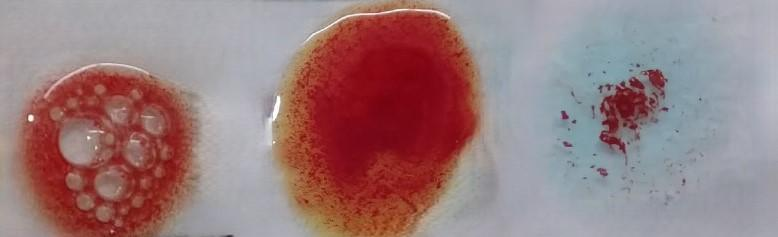A: (550, 25, 743, 214)
B: (282, 9, 476, 237)
D: (27, 71, 189, 237)
